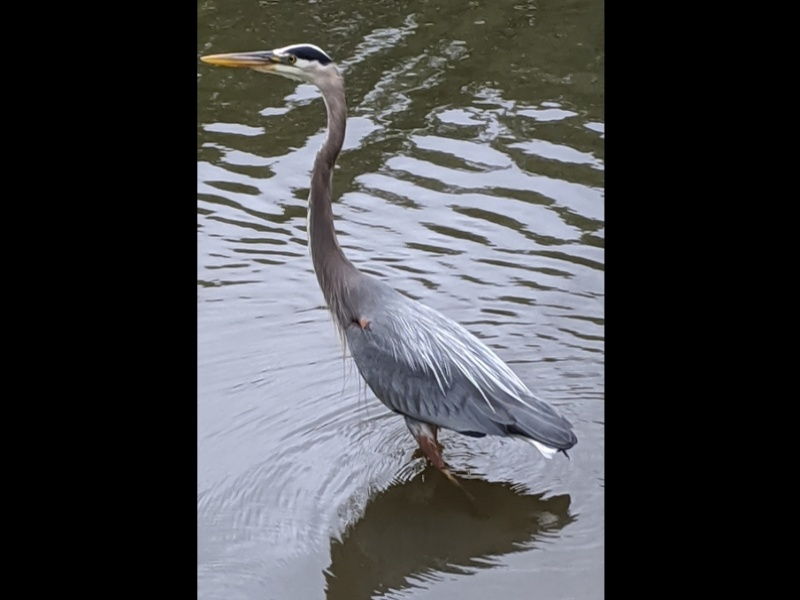heron: (201, 38, 584, 511)
